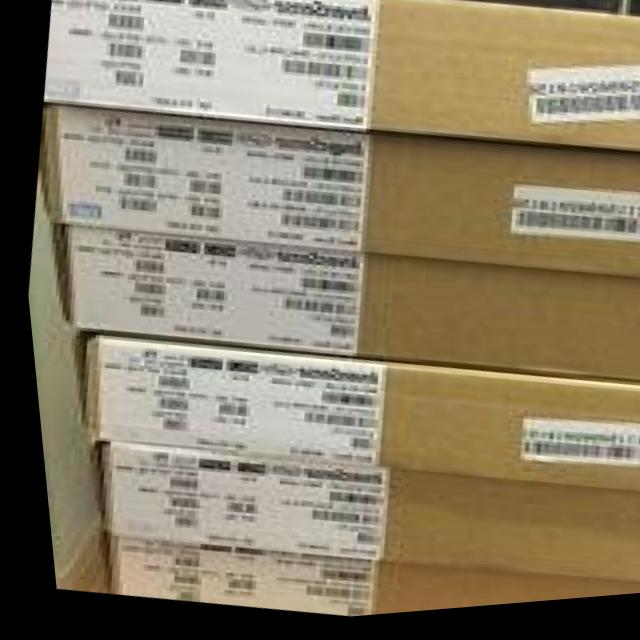box: (34, 105, 640, 291), (45, 222, 640, 394), (69, 331, 640, 505), (41, 0, 640, 163), (86, 441, 640, 596), (95, 538, 638, 621)
